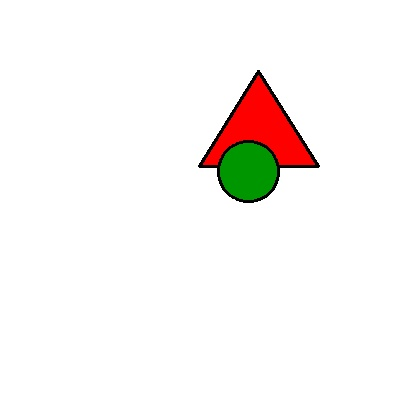circle: (218, 111, 278, 231)
triangle: (199, 71, 318, 166)
